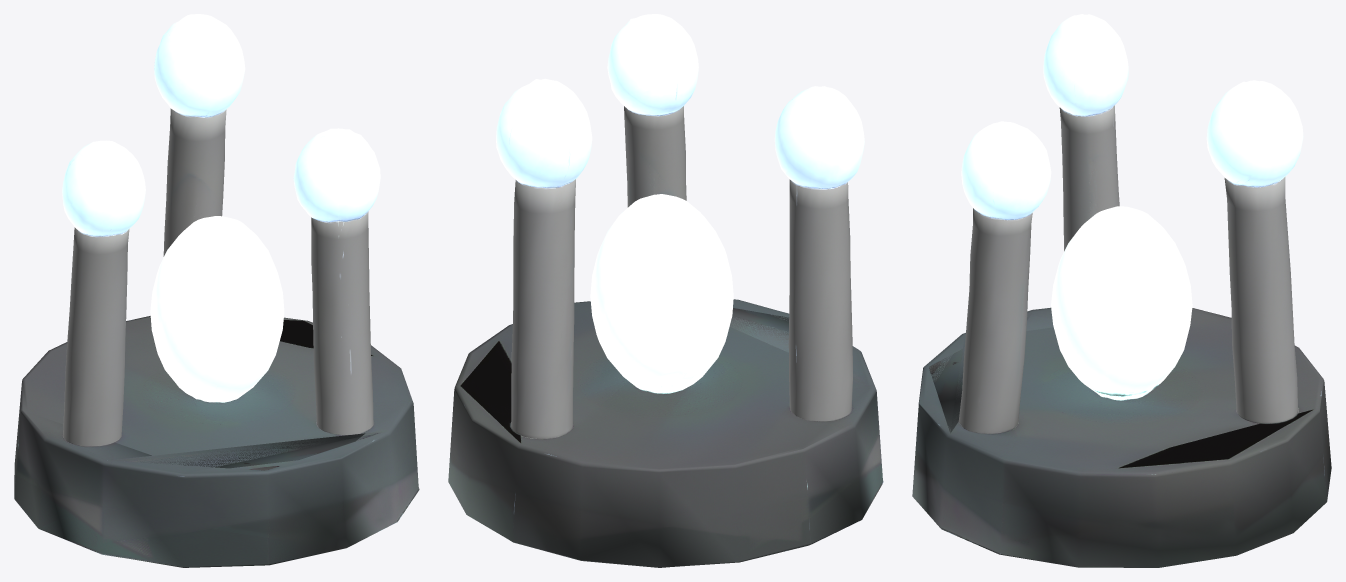
File: energy-defense.glb
The picture shows the model from 3 angles, left to right: view 1: azimuth 30°, elevation 25°; view 2: azimuth 150°, elevation 25°; view 3: azimuth 270°, elevation 25°; orthographic projection. The views are drawn at different scales.
Bounding box in the file's own units: 0.9141 × 1 × 0.9043.
Materials: 1 (1 with a texture image).
